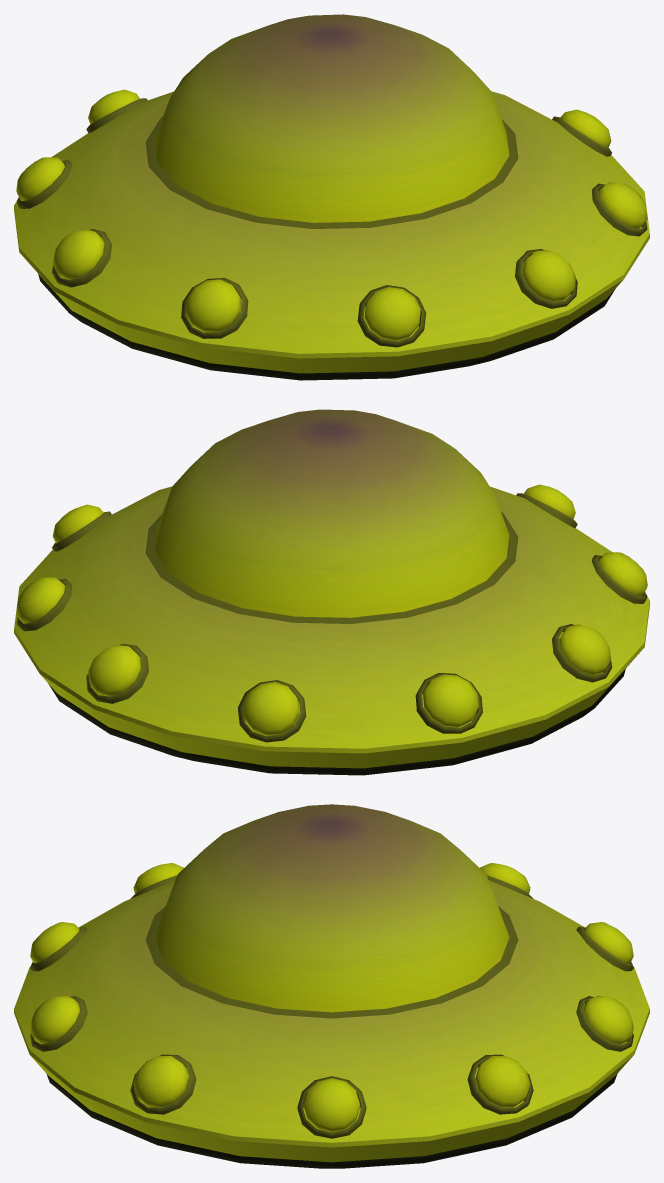
File: ufo_01.fbx
The picture shows the model from 3 angles, top to bottom: view 1: azimuth 30°, elevation 25°; view 2: azimuth 150°, elevation 25°; view 3: azimuth 270°, elevation 25°; orthographic projection.
Visible parts, largest first — view 1: shell, glass, lamps, rings, frame; view 2: shell, glass, lamps, rings, frame; view 3: shell, glass, lamps, rings, frame.
Part boxes in pixels (box(x1,y1,x2,y2)): shell: box(14, 91, 649, 373); glass: box(154, 14, 509, 222); lamps: box(16, 89, 647, 340); rings: box(16, 98, 647, 347); frame: box(38, 274, 615, 380); shell: box(14, 486, 649, 768); glass: box(154, 409, 509, 617); lamps: box(16, 484, 647, 735); rings: box(16, 493, 647, 742); frame: box(48, 669, 625, 775); shell: box(14, 880, 649, 1162); glass: box(154, 804, 509, 1012); lamps: box(30, 863, 633, 1132); rings: box(30, 875, 633, 1138); frame: box(46, 1074, 617, 1168).
Size of what is drawn, in the model's own units: 3.11 by 1.79 by 3.11.
Materials: 1 (1 with a texture image).
